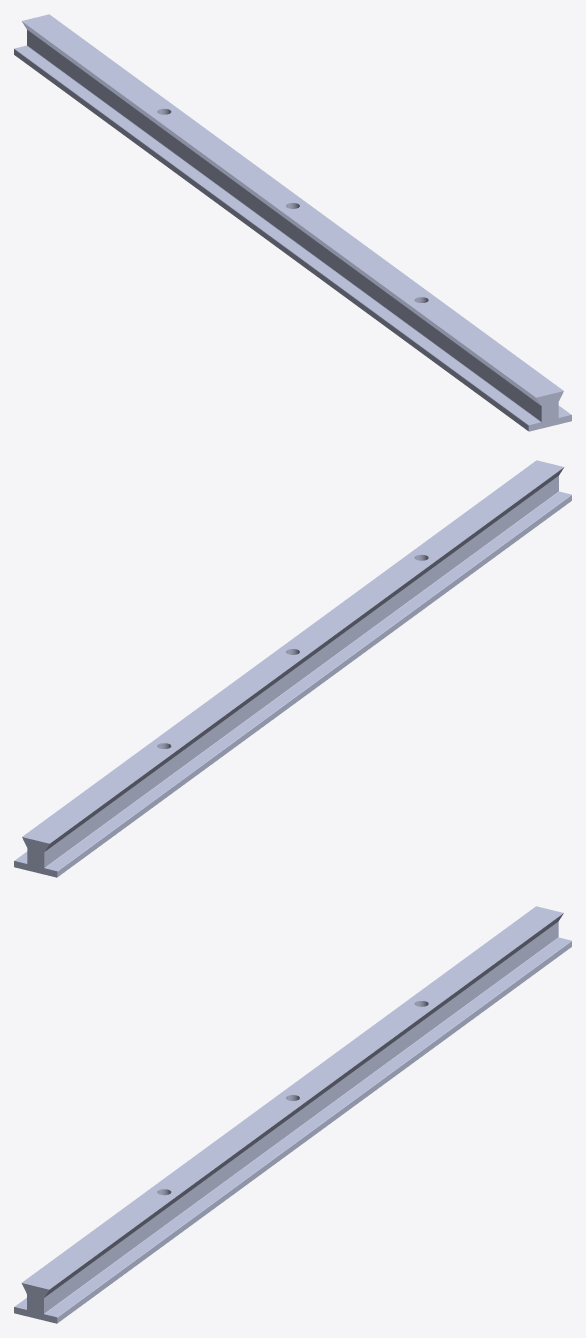
The model's file is Exc_Connection_With_Holes.obj.
3 views of the same model, one above another, from view 1: azimuth 30°, elevation 25°; view 2: azimuth 150°, elevation 25°; view 3: azimuth 330°, elevation 25° (orthographic).
Visible parts, largest first — view 1: mesh28330, mesh28328, mesh28326, mesh28324, mesh28329, mesh28335, mesh28325, mesh28327; view 2: mesh28330, mesh28328, mesh28326, mesh28324, mesh28329, mesh28336, mesh28325, mesh28327; view 3: mesh28330, mesh28332, mesh28337, mesh28334, mesh28331, mesh28335, mesh28338, mesh28339.
Boxes of the visible parts, x1,y1,x2,y2 form: mesh28330: (22,14,563,397); mesh28328: (27,30,541,421); mesh28326: (14,45,540,424); mesh28324: (14,49,528,430); mesh28329: (22,21,540,405); mesh28335: (528,391,571,431); mesh28325: (14,48,528,425); mesh28327: (27,45,540,421); mesh28330: (22,460,563,843); mesh28328: (44,476,558,867); mesh28326: (45,491,571,870); mesh28324: (57,495,571,876); mesh28329: (45,467,563,851); mesh28336: (14,837,57,877); mesh28325: (57,494,571,871); mesh28327: (45,491,558,867); mesh28330: (22,906,563,1289); mesh28332: (44,921,558,1313); mesh28337: (44,937,571,1317); mesh28334: (57,941,571,1323); mesh28331: (44,913,563,1297); mesh28335: (14,1283,57,1323); mesh28338: (57,940,571,1317); mesh28339: (44,937,558,1313).
Bounding box in the file's own units: 0.0141 × 0.01 × 0.29.
